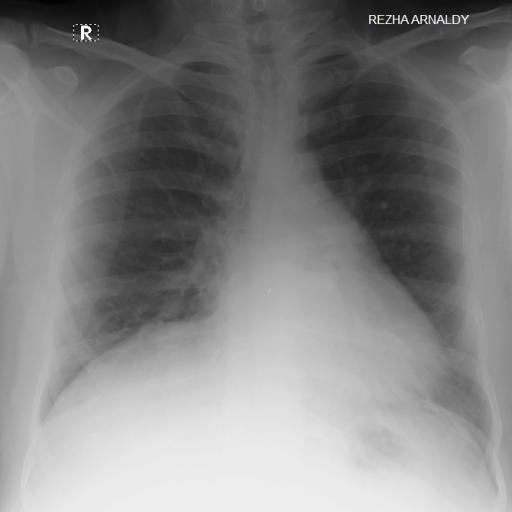kardiomegali: (31, 21, 504, 476)
